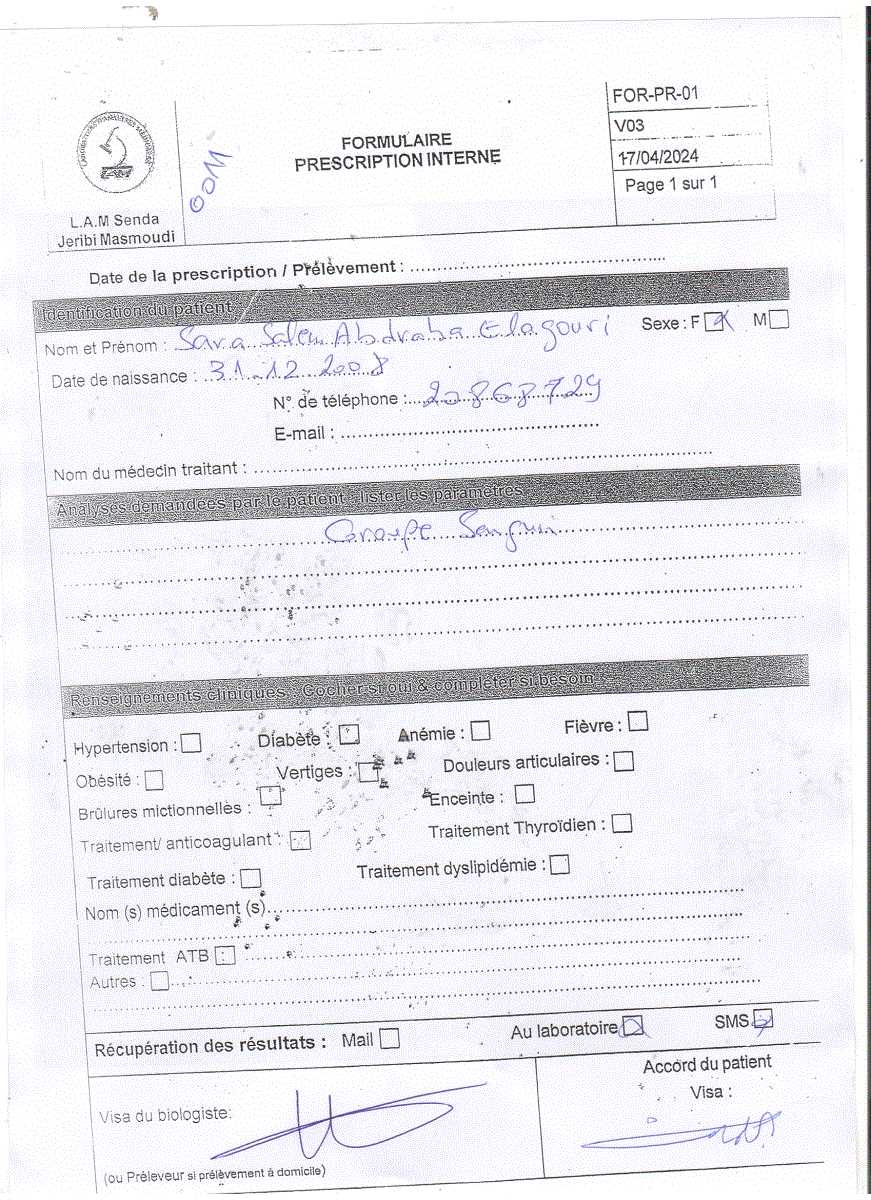zone_analyses: (44, 485, 666, 585)
zone_patient: (34, 305, 843, 464)
